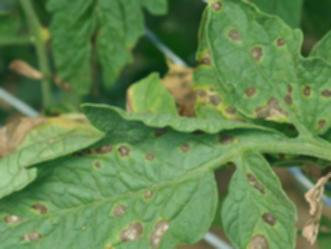Tomato Septoria leaf spot: (0, 98, 259, 249), (189, 0, 331, 139), (216, 148, 305, 249)
